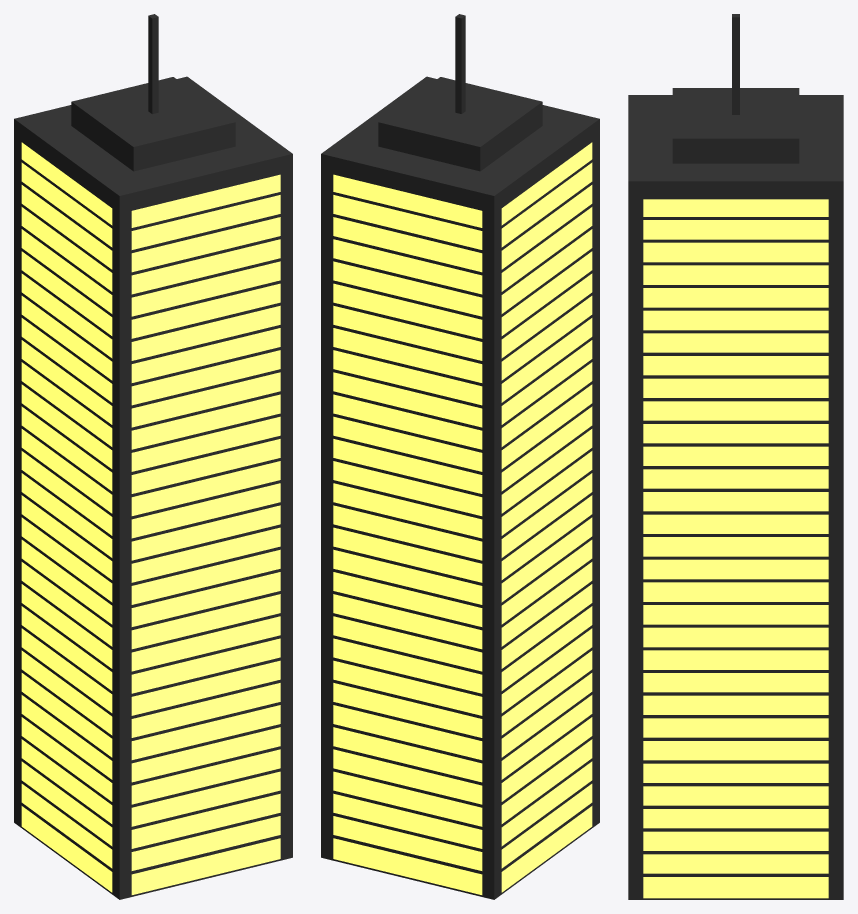
Rendered from Palazzo Rettangolare.fbx.
The picture shows the model from 3 angles, left to right: view 1: azimuth 30°, elevation 25°; view 2: azimuth 150°, elevation 25°; view 3: azimuth 270°, elevation 25°; orthographic projection. The views are drawn at different scales.
Visible parts, largest first — view 1: Building.001_Cube.067; view 2: Building.001_Cube.067; view 3: Building.001_Cube.067.
Boxes of the visible parts, x1,y1,x2,y2 form: Building.001_Cube.067: (14,14,292,899); Building.001_Cube.067: (321,14,599,899); Building.001_Cube.067: (628,14,843,899).
Size of the model in its own units: 835 by 3795 by 881.
